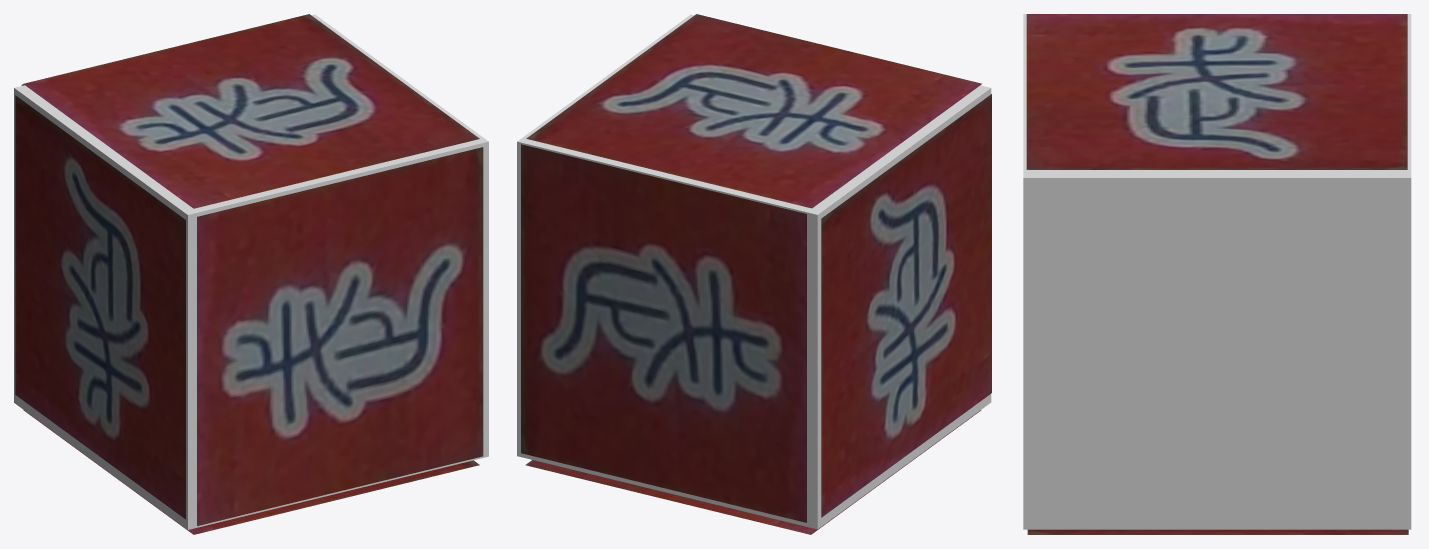
3 views of the same model, side by side, from view 1: azimuth 30°, elevation 25°; view 2: azimuth 150°, elevation 25°; view 3: azimuth 270°, elevation 25° (orthographic). The views are drawn at different scales.
Visible parts, largest first — view 1: fake2.png.005, fake2.png.001, fake2.png.003, Link35, fake2.png.004; view 2: fake2.png.002, fake2.png.001, fake2.png.003, Link35, fake2.png.004; view 3: Link35, fake2.png.003, fake2.png.004.
Part boxes in pixels (x1,y1,x2,y2): fake2.png.005: [197, 147, 483, 525]; fake2.png.001: [15, 95, 185, 519]; fake2.png.003: [23, 14, 479, 208]; Link35: [14, 14, 488, 529]; fake2.png.004: [23, 410, 479, 534]; fake2.png.002: [521, 144, 806, 522]; fake2.png.001: [821, 94, 991, 517]; fake2.png.003: [526, 14, 981, 208]; Link35: [517, 14, 991, 529]; fake2.png.004: [525, 410, 981, 534]; Link35: [1023, 14, 1411, 529]; fake2.png.003: [1026, 14, 1407, 169]; fake2.png.004: [1027, 529, 1408, 534].
Size of the model in its own units: 0.3515 by 0.3561 by 0.3629.
Materials: 1 (1 with a texture image).
